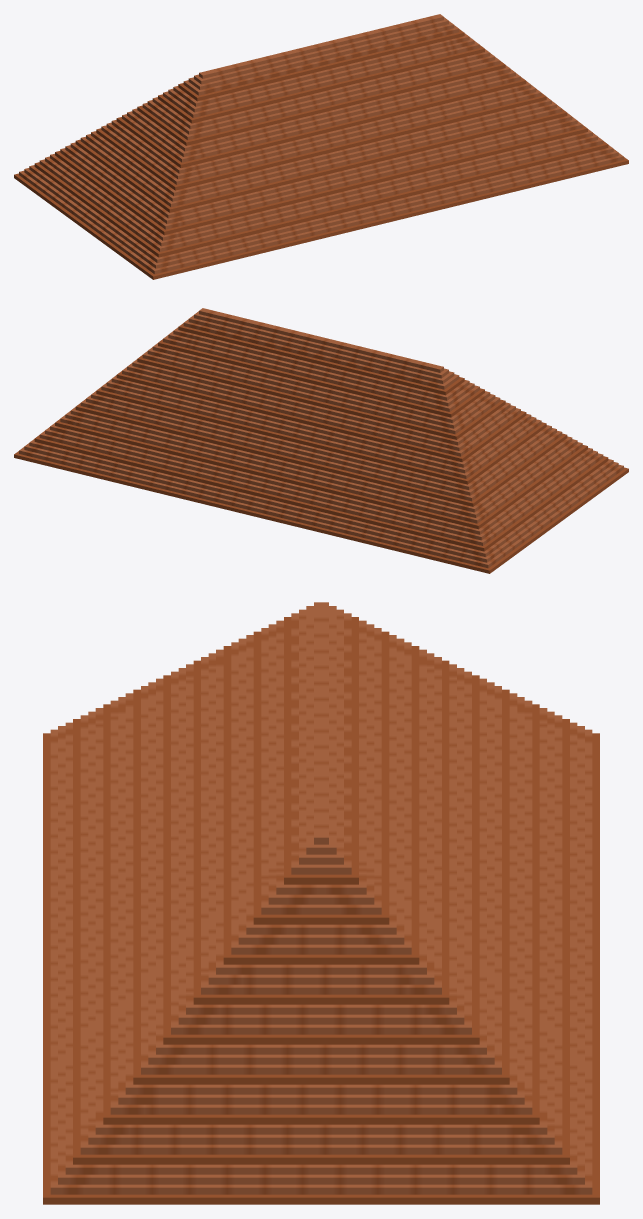
The model's file is roof_textured_orange_spikey_rectangular.obj.
The picture shows the model from 3 angles, top to bottom: view 1: azimuth 30°, elevation 25°; view 2: azimuth 150°, elevation 25°; view 3: azimuth 270°, elevation 25°; orthographic projection. The views are drawn at different scales.
Visible parts, largest first — view 1: GameObject_roof_textured_orange_spikey_rectangular.002; view 2: GameObject_roof_textured_orange_spikey_rectangular.002; view 3: GameObject_roof_textured_orange_spikey_rectangular.002.
Boxes of the visible parts, <box> form: GameObject_roof_textured_orange_spikey_rectangular.002: <box>14,14,628,279</box>; GameObject_roof_textured_orange_spikey_rectangular.002: <box>14,308,628,573</box>; GameObject_roof_textured_orange_spikey_rectangular.002: <box>43,602,599,1204</box>.
Size of the model in its own units: 14.6 by 3.7 by 7.4.
